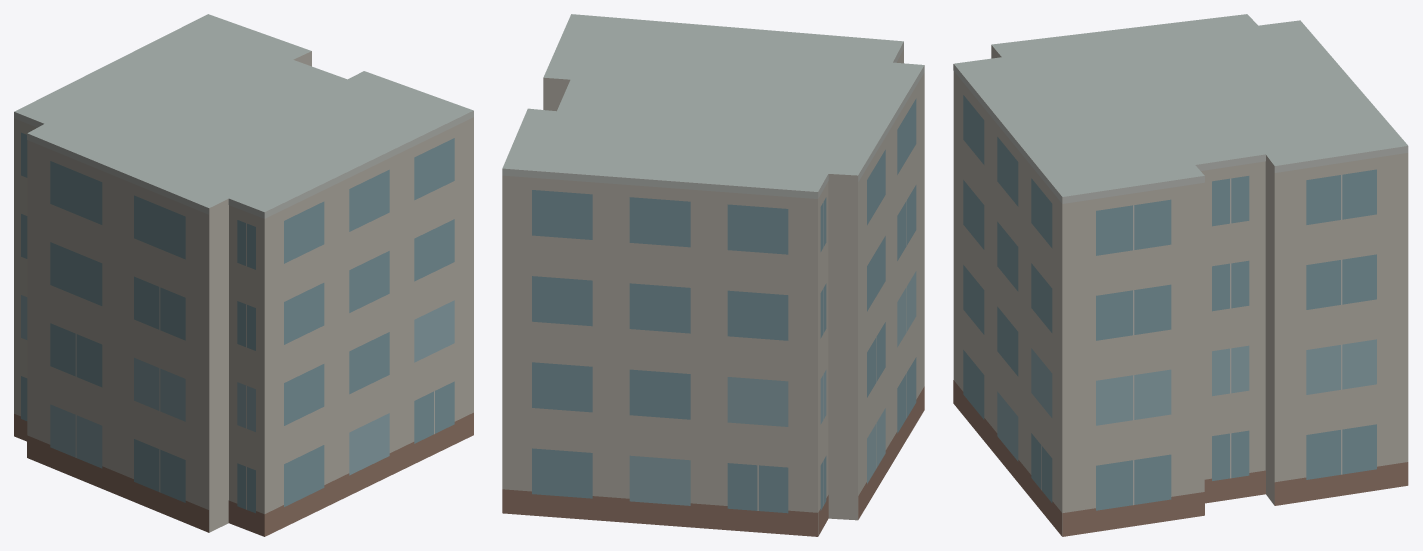
The model's file is survey-upis-32811386.glb.
3 views of the same model, side by side, from view 1: azimuth 30°, elevation 25°; view 2: azimuth 150°, elevation 25°; view 3: azimuth 270°, elevation 25° (orthographic). The views are drawn at different scales.
Parts seen in each view (by area): view 1: survey-upis-32811386.tmp; view 2: survey-upis-32811386.tmp; view 3: survey-upis-32811386.tmp.
Boxes of the visible parts, x1=… form: survey-upis-32811386.tmp: x1=14, y1=14, x2=473, y2=536; survey-upis-32811386.tmp: x1=502, y1=14, x2=924, y2=536; survey-upis-32811386.tmp: x1=953, y1=14, x2=1408, y2=536.
Size of the model in its own units: 13.82 by 11.95 by 14.51.
